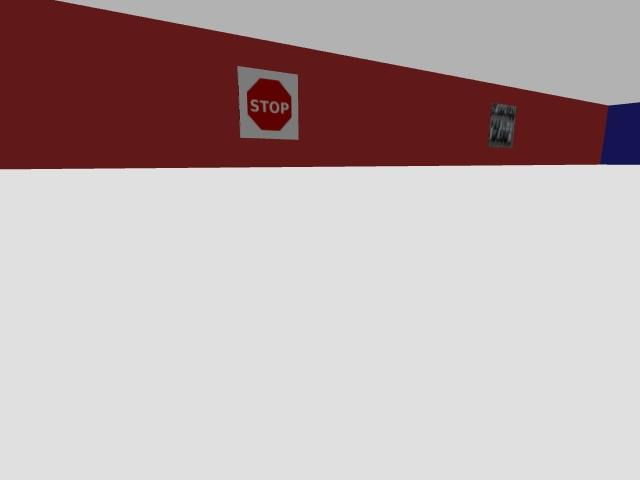stopsign: (238, 67, 297, 139)
